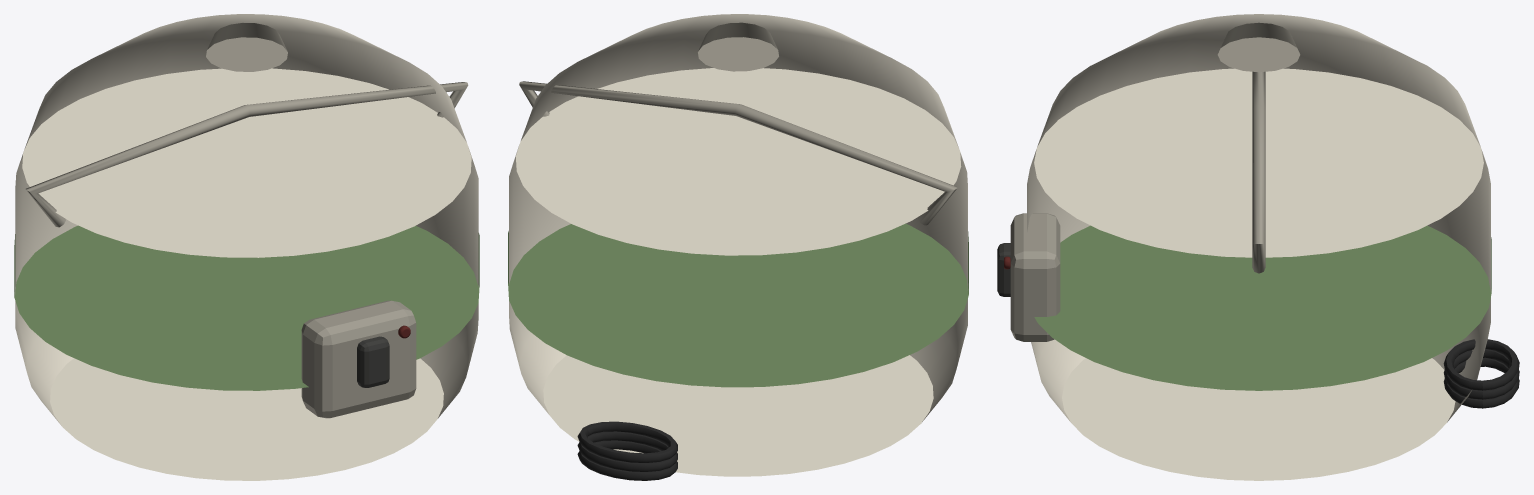
The model's file is NoiComDien.glb.
3 views of the same model, side by side, from view 1: azimuth 30°, elevation 25°; view 2: azimuth 150°, elevation 25°; view 3: azimuth 270°, elevation 25° (orthographic).
Visible parts, largest first — view 1: geometry_0; view 2: geometry_0; view 3: geometry_0.
Boxes of the visible parts, left/top/right/bottom form: geometry_0: left=14, top=14, right=479, bottom=480; geometry_0: left=508, top=14, right=968, bottom=480; geometry_0: left=997, top=14, right=1519, bottom=480.
Size of the model in its own units: 0.3074 by 0.2444 by 0.3154.
